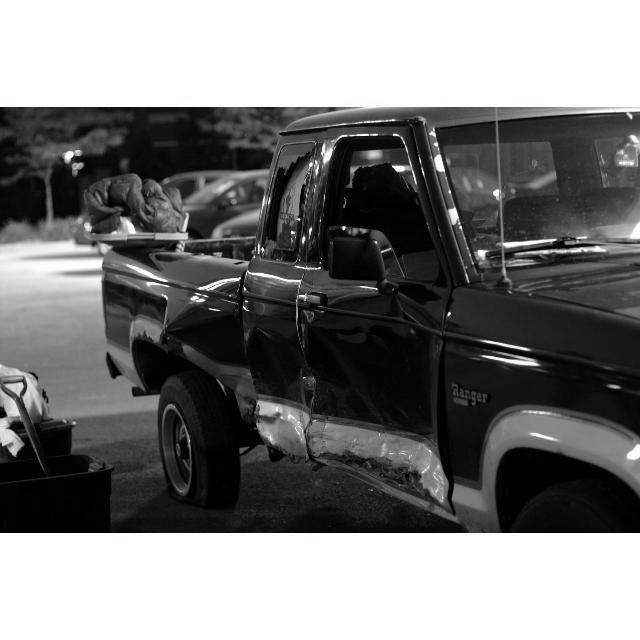Runningboard-Damage: (312, 458, 473, 502)
doorouter-dent: (301, 264, 461, 459)
quaterpanel-dent: (122, 265, 250, 397)
